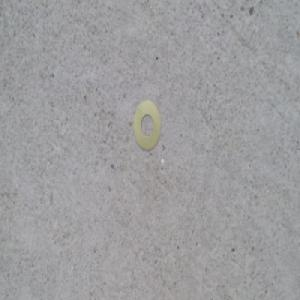Washer: (133, 97, 163, 151)
